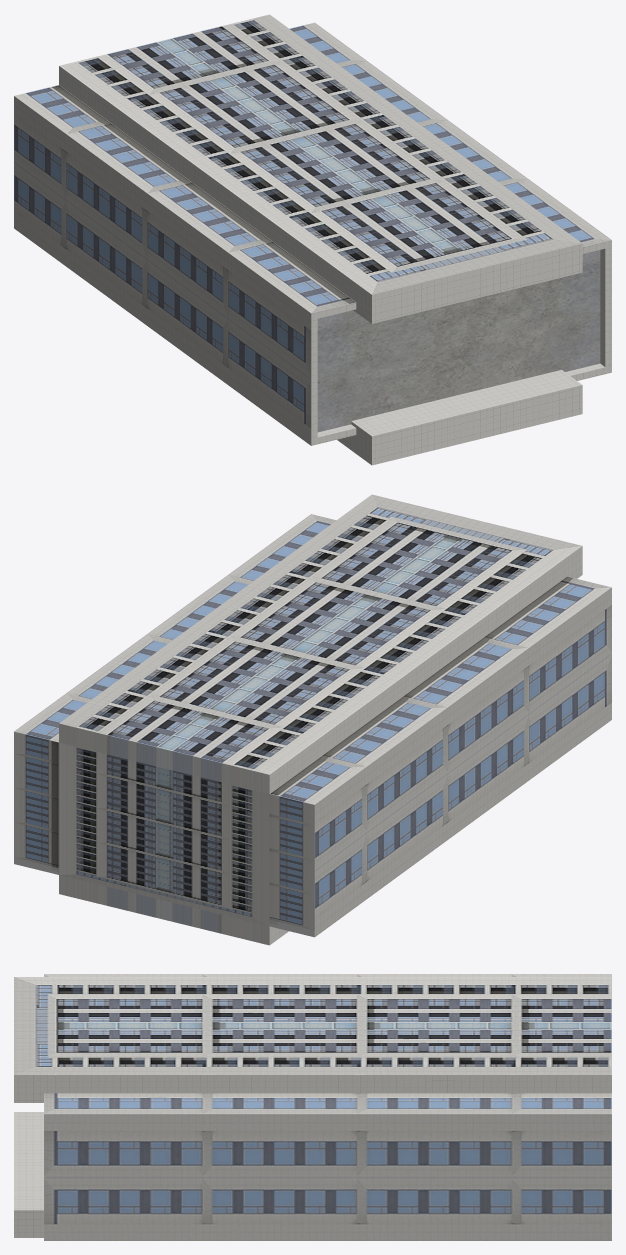
The model's file is sgy_zzl.gltf.
3 renders of one model, top to bottom at view 1: azimuth 30°, elevation 25°; view 2: azimuth 150°, elevation 25°; view 3: azimuth 270°, elevation 25°, orthographic. The views are drawn at different scales.
Parts seen in each view (by area): view 1: Box015; view 2: Box015; view 3: Box015.
Boxes of the visible parts, box(x1,y1,x2,y2) form: Box015: box(14, 14, 611, 465); Box015: box(14, 494, 611, 945); Box015: box(14, 974, 611, 1240).
Bounding box in the file's own units: 45.69 × 24.77 × 82.33.
Materials: 3 (3 with a texture image).
